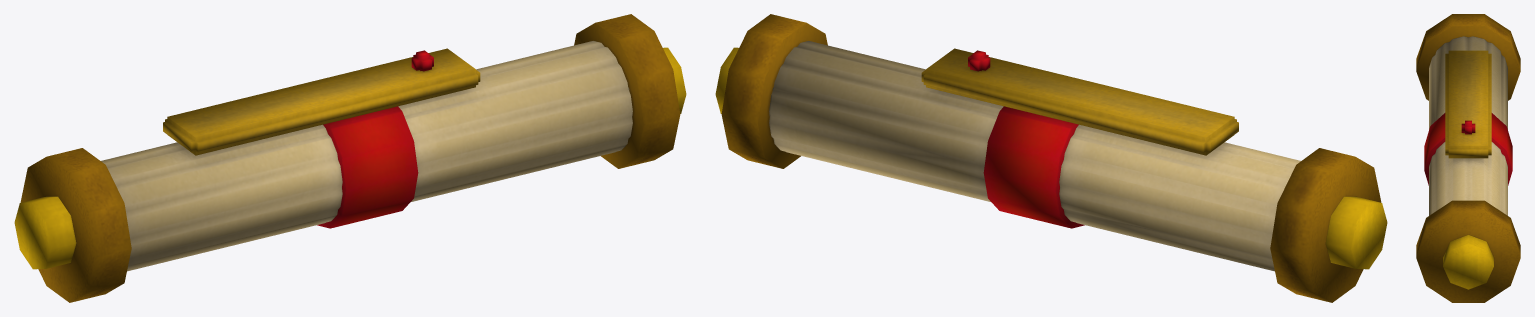
Rendered from TreasureMap.fbx.
3 views of the same model, side by side, from view 1: azimuth 30°, elevation 25°; view 2: azimuth 150°, elevation 25°; view 3: azimuth 270°, elevation 25° (orthographic). The views are drawn at different scales.
Parts seen in each view (by area): view 1: TreasureMap; view 2: TreasureMap; view 3: TreasureMap.
Boxes of the visible parts, x1,y1,x2,y2 form: TreasureMap: (14, 14, 686, 302); TreasureMap: (715, 14, 1387, 302); TreasureMap: (1416, 14, 1520, 302).
Bounding box in the file's own units: 0.44 × 0.1008 × 0.09.
